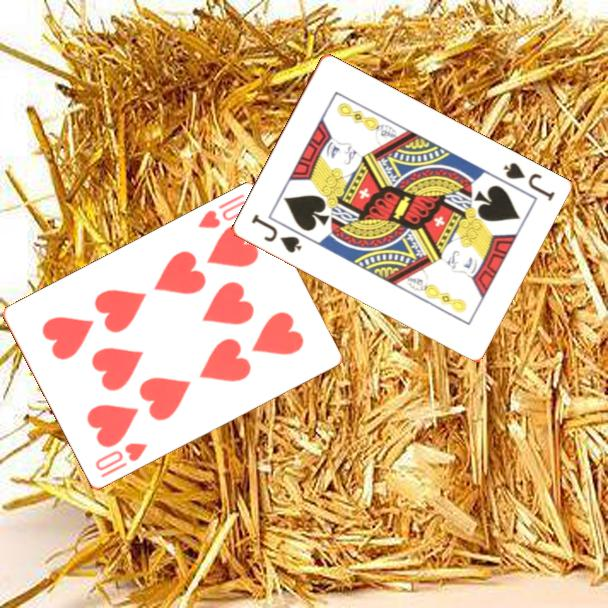h10: (92, 439, 150, 481), (194, 191, 253, 232)
s11: (499, 159, 557, 204), (247, 211, 304, 256)
